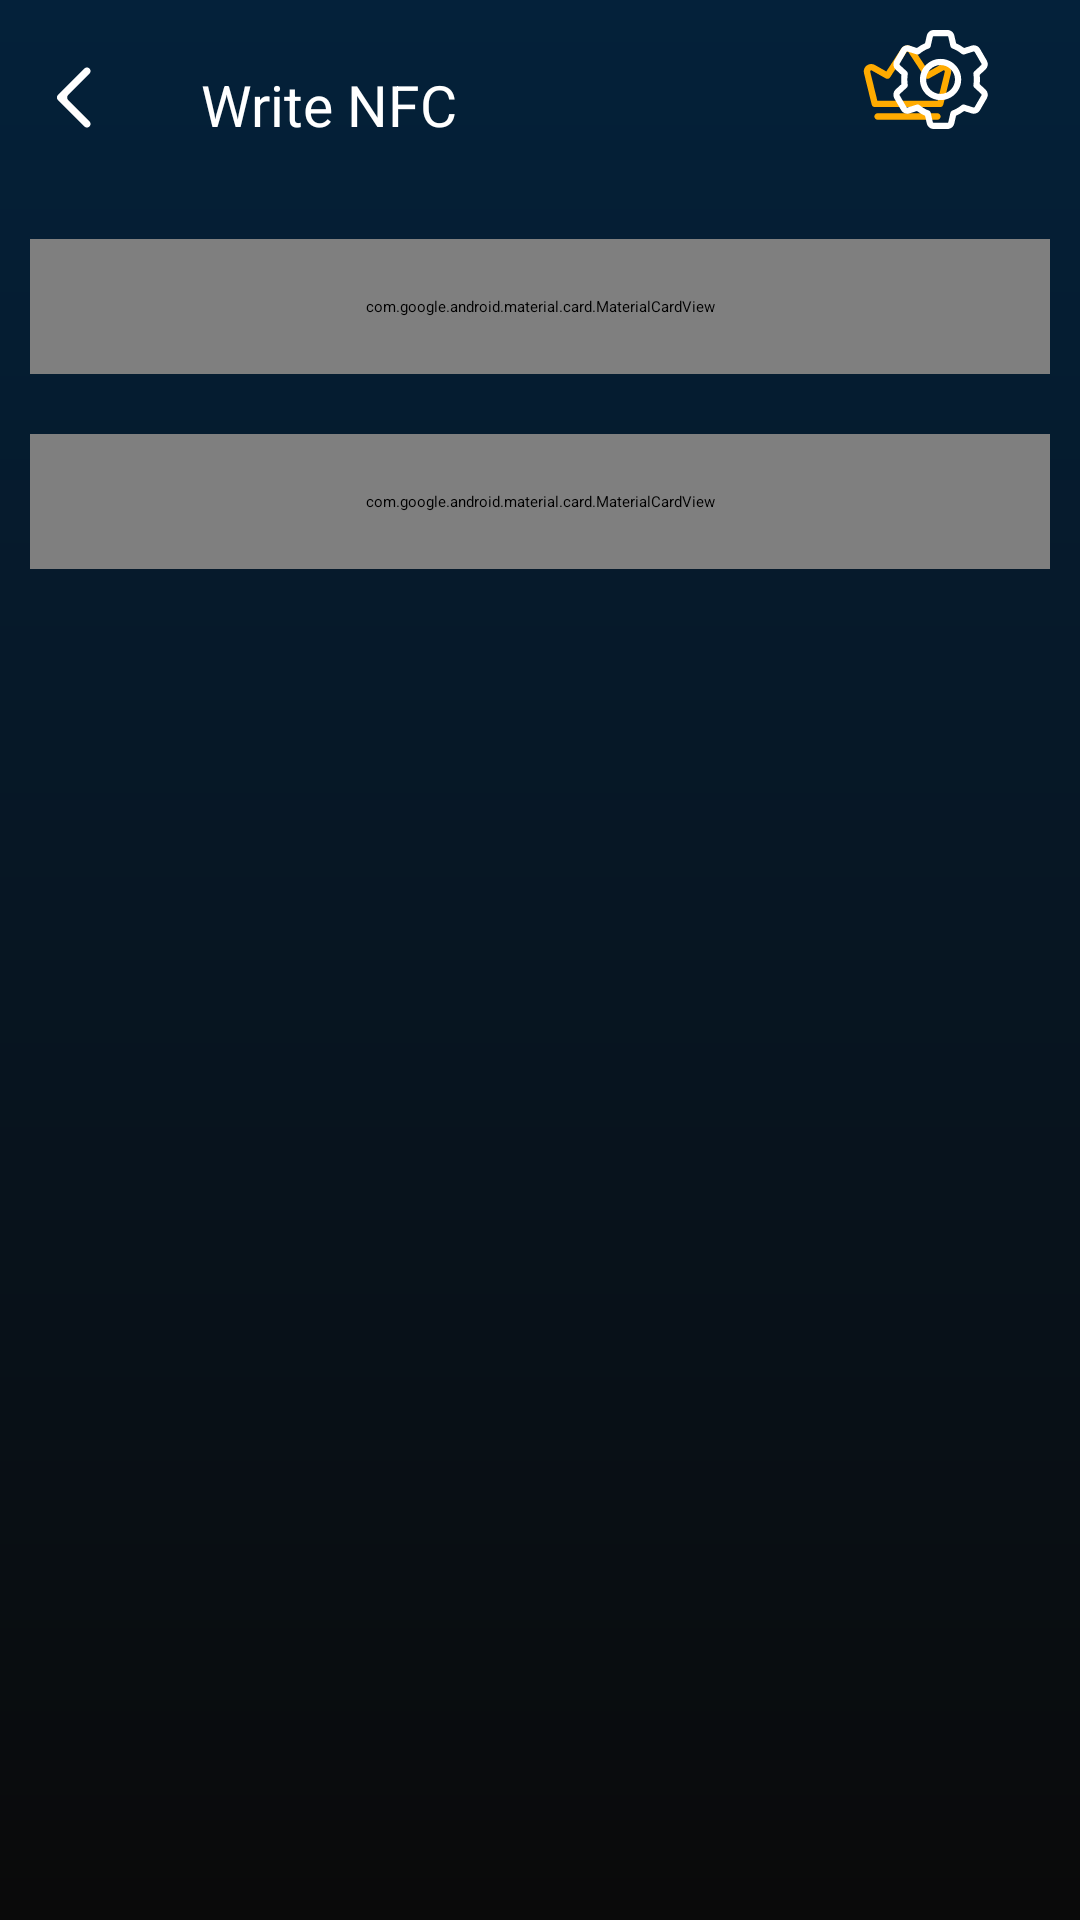

Icons on this 1080w x 1920h Android screen, each with the point to tap as (x,y):
Back: (74,97)
